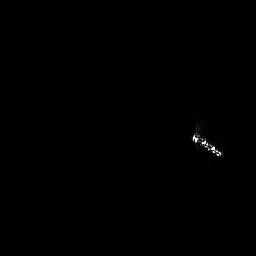ship: (188, 128, 225, 161)
